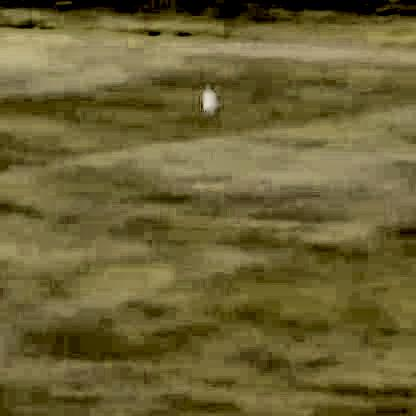golfball: (199, 84, 215, 106)
